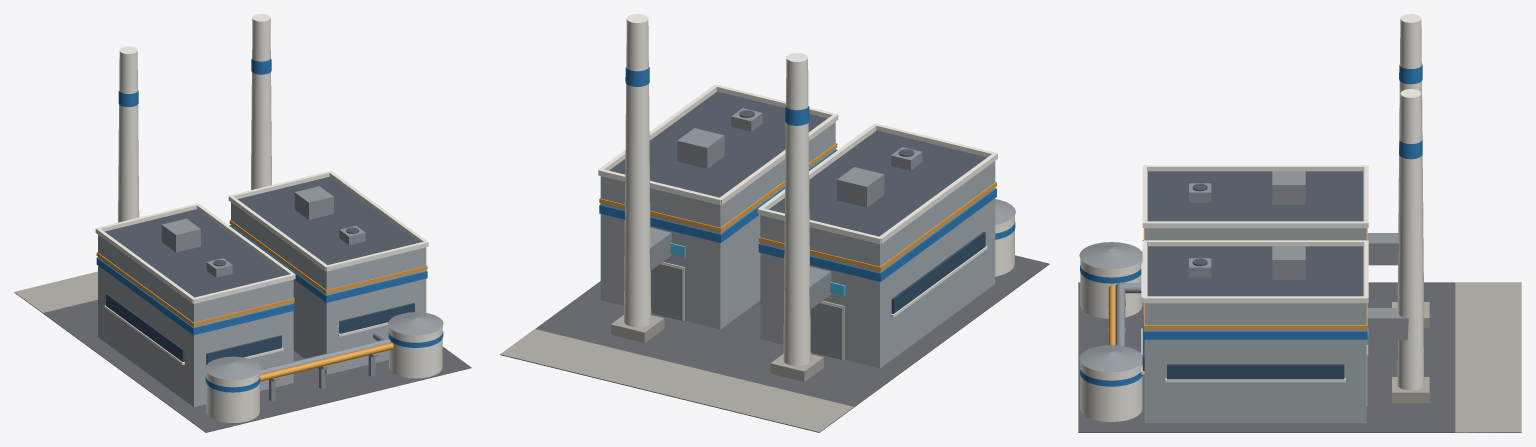
The model's file is gas.glb.
3 views of the same model, side by side, from view 1: azimuth 30°, elevation 25°; view 2: azimuth 150°, elevation 25°; view 3: azimuth 270°, elevation 25° (orthographic). The views are drawn at different scales.
Visible parts, largest first — view 1: turbine_hall (×2), roof (×2), yard, smoke_stack (×2), parapet (×8), accent_stripe (×4), storage_tank (×2), window_band (×3), roof_vent (×2), tank_roof (×2), apron, pipe (×2); view 2: turbine_hall (×2), roof (×2), yard, smoke_stack (×2), apron, parapet (×8), accent_stripe (×4), garage_door (×2), roof_vent (×2), stack_base (×2), window_band, flue_duct (×2) (+1 smaller); view 3: turbine_hall (×2), roof (×2), yard, apron, smoke_stack (×2), parapet (×4), storage_tank (×2), accent_stripe (×2), window_band, tank_roof (×2), roof_vent (×2), flue_duct (×2) (+4 smaller).
Part boxes in pixels (<box>): turbine_hall (×2): <box>98,202,426,407</box>; roof (×2): <box>105,176,418,297</box>; yard: <box>15,293,471,432</box>; smoke_stack (×2): <box>118,14,271,222</box>; parapet (×8): <box>95,171,428,303</box>; accent_stripe (×4): <box>96,219,427,335</box>; storage_tank (×2): <box>206,327,442,422</box>; window_band (×3): <box>106,293,414,364</box>; roof_vent (×2): <box>161,186,333,252</box>; tank_roof (×2): <box>205,312,443,379</box>; apron: <box>14,271,97,312</box>; pipe (×2): <box>260,338,393,381</box>; turbine_hall (×2): <box>600,122,995,368</box>; roof (×2): <box>609,91,986,236</box>; yard: <box>500,255,1049,432</box>; smoke_stack (×2): <box>624,14,810,365</box>; apron: <box>500,329,853,432</box>; parapet (×8): <box>598,84,997,244</box>; accent_stripe (×4): <box>599,143,996,281</box>; garage_door (×2): <box>650,264,842,359</box>; roof_vent (×2): <box>677,128,884,207</box>; stack_base (×2): <box>611,315,823,381</box>; window_band: <box>891,231,985,313</box>; flue_duct (×2): <box>649,227,831,309</box>; turbine_hall (×2): <box>1144,172,1366,422</box>; roof (×2): <box>1148,171,1363,296</box>; yard: <box>1078,282,1521,432</box>; apron: <box>1455,282,1521,432</box>; smoke_stack (×2): <box>1397,14,1424,390</box>; parapet (×4): <box>1143,165,1367,303</box>; storage_tank (×2): <box>1080,259,1142,421</box>; accent_stripe (×2): <box>1143,303,1367,339</box>; window_band: <box>1167,364,1344,379</box>; tank_roof (×2): <box>1079,242,1142,372</box>; roof_vent (×2): <box>1272,171,1305,279</box>; flue_duct (×2): <box>1367,233,1408,340</box>.
Bounding box in the file's own units: 32 × 30.06 × 40.
